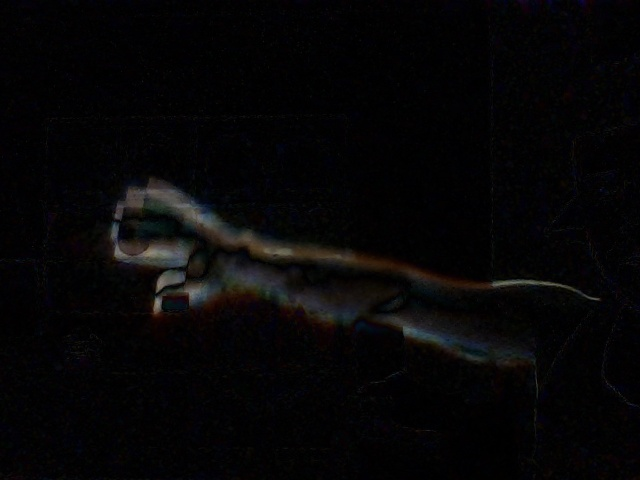hand_pa: (102, 171, 248, 323)
